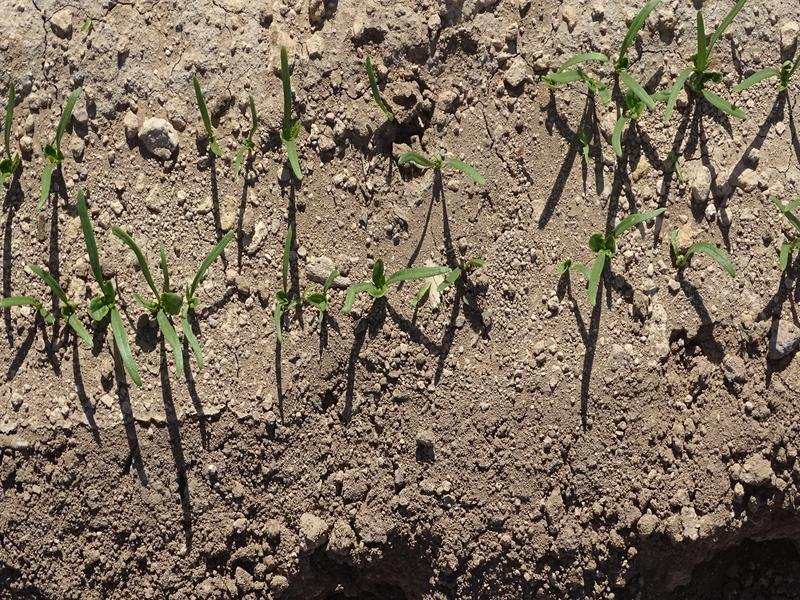Espinaca: (543, 3, 790, 158), (4, 225, 237, 378), (270, 253, 488, 341), (571, 206, 734, 312), (190, 56, 305, 184), (31, 89, 81, 206), (397, 143, 488, 185), (768, 189, 800, 274), (369, 70, 404, 111)
